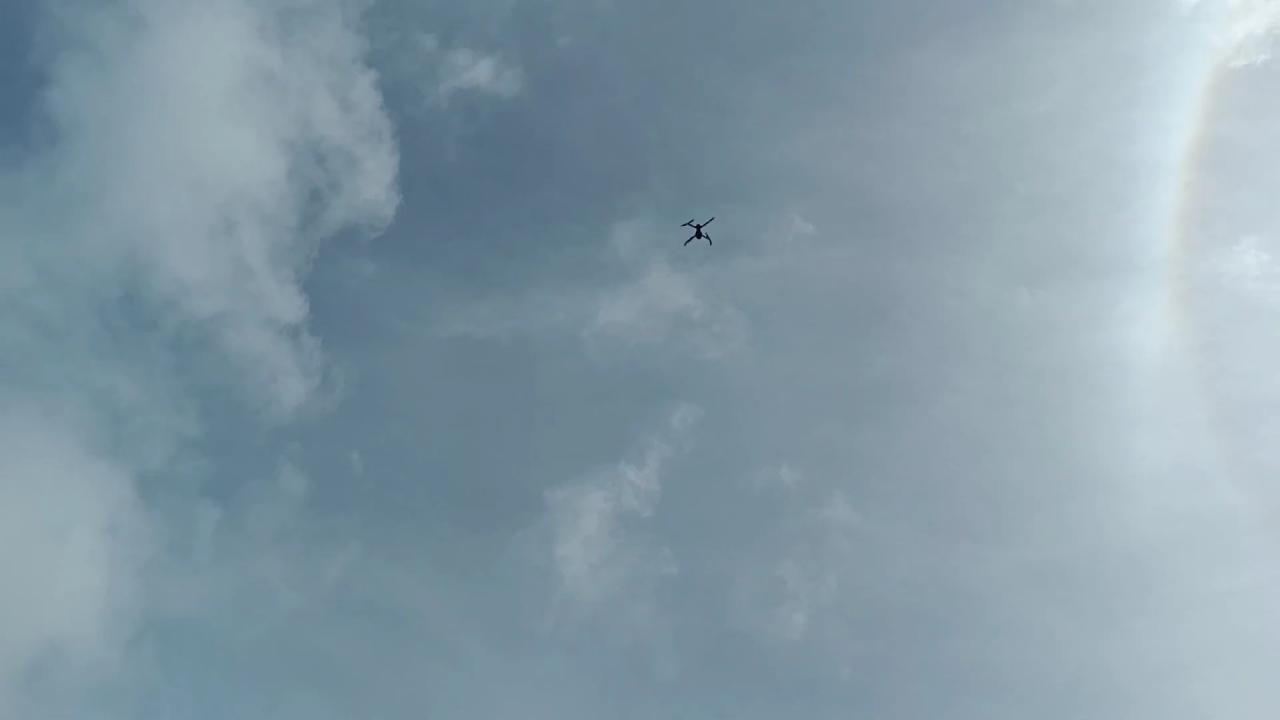Drone: (665, 208, 727, 256)
